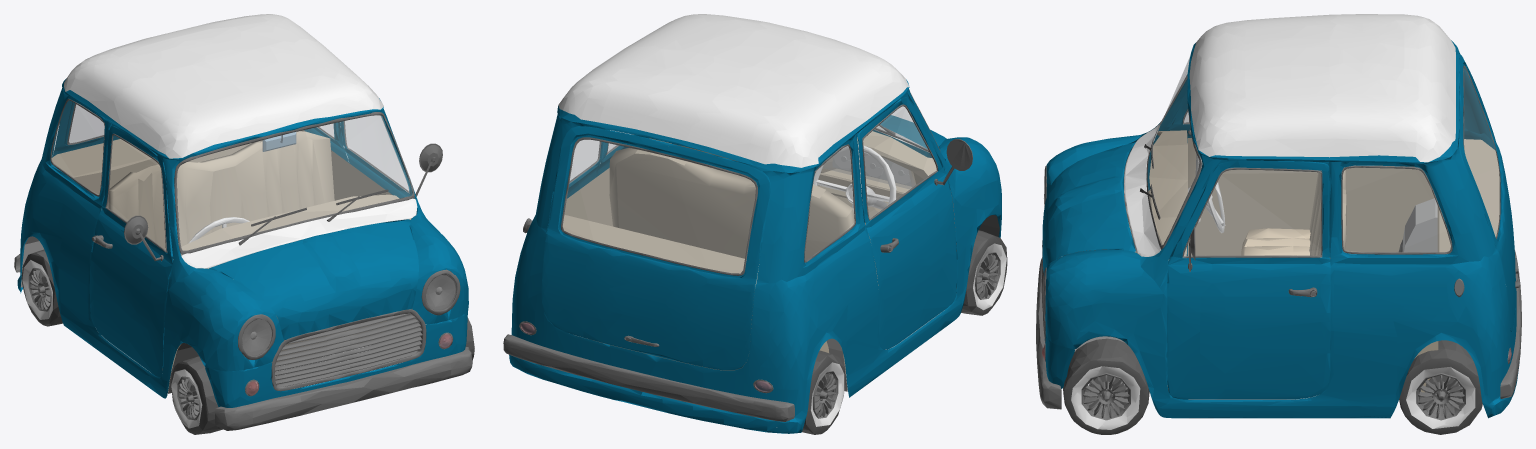
The model's file is car_mnc.fbx.
The picture shows the model from 3 angles, left to right: view 1: azimuth 30°, elevation 25°; view 2: azimuth 150°, elevation 25°; view 3: azimuth 270°, elevation 25°; orthographic projection. The views are drawn at different scales.
Visible parts, largest first — view 1: CAR_MNC:Line08s010; view 2: CAR_MNC:Line08s010; view 3: CAR_MNC:Line08s010.
Part boxes in pixels (x1,y1,x2,y2): CAR_MNC:Line08s010: [14, 14, 474, 434]; CAR_MNC:Line08s010: [503, 14, 1007, 434]; CAR_MNC:Line08s010: [1036, 14, 1521, 434].
Bounding box in the file's own units: 183 × 150 × 215.
